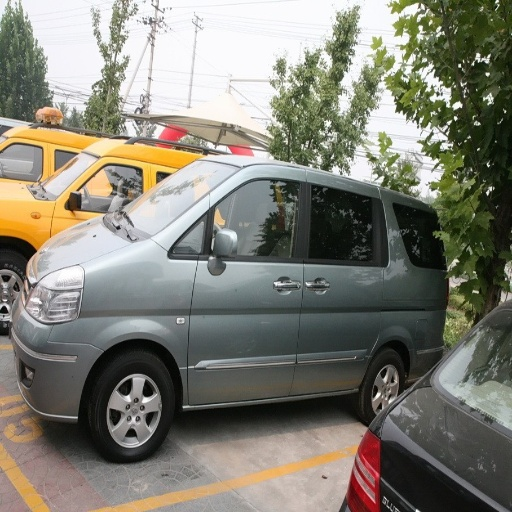front_bumper: (15, 313, 94, 416)
front_glass: (150, 162, 217, 210)
front_left_door: (183, 175, 305, 403)
trunk: (351, 312, 410, 360)
